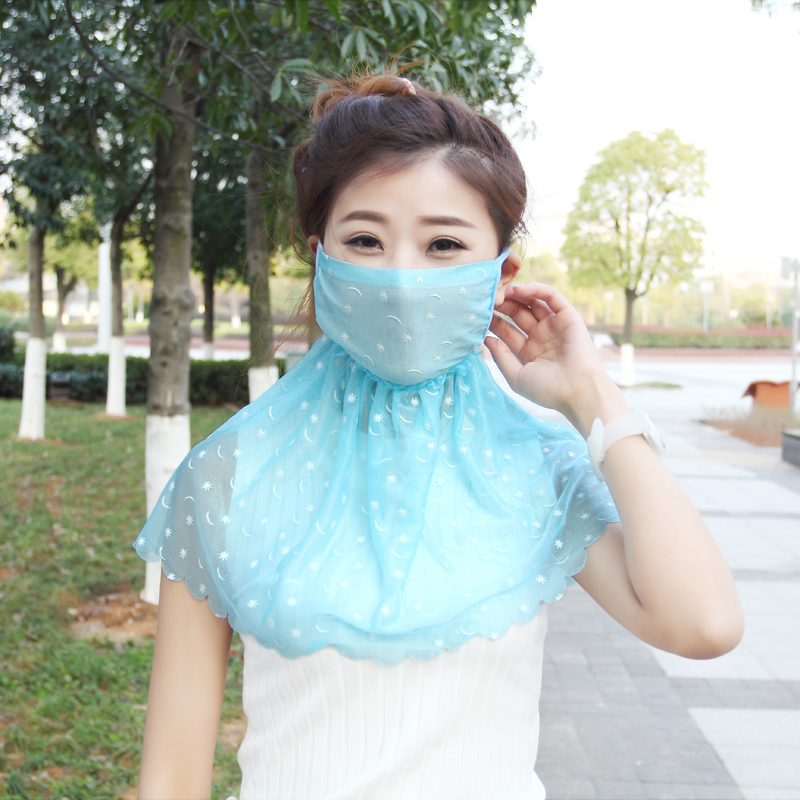face_mask: (316, 151, 498, 382)
